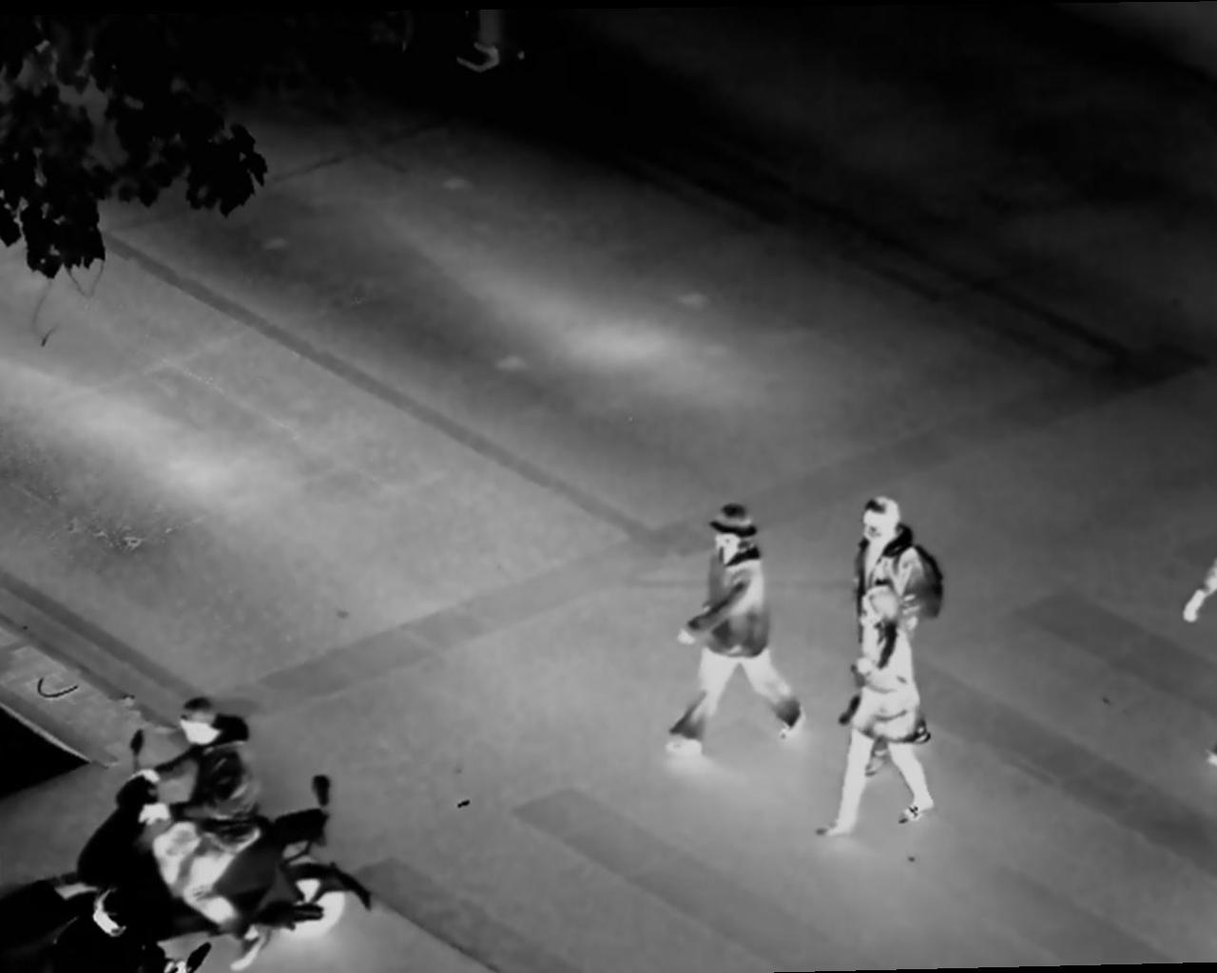person: (122, 686, 274, 946), (669, 495, 802, 770), (821, 589, 959, 838), (850, 497, 941, 613)
